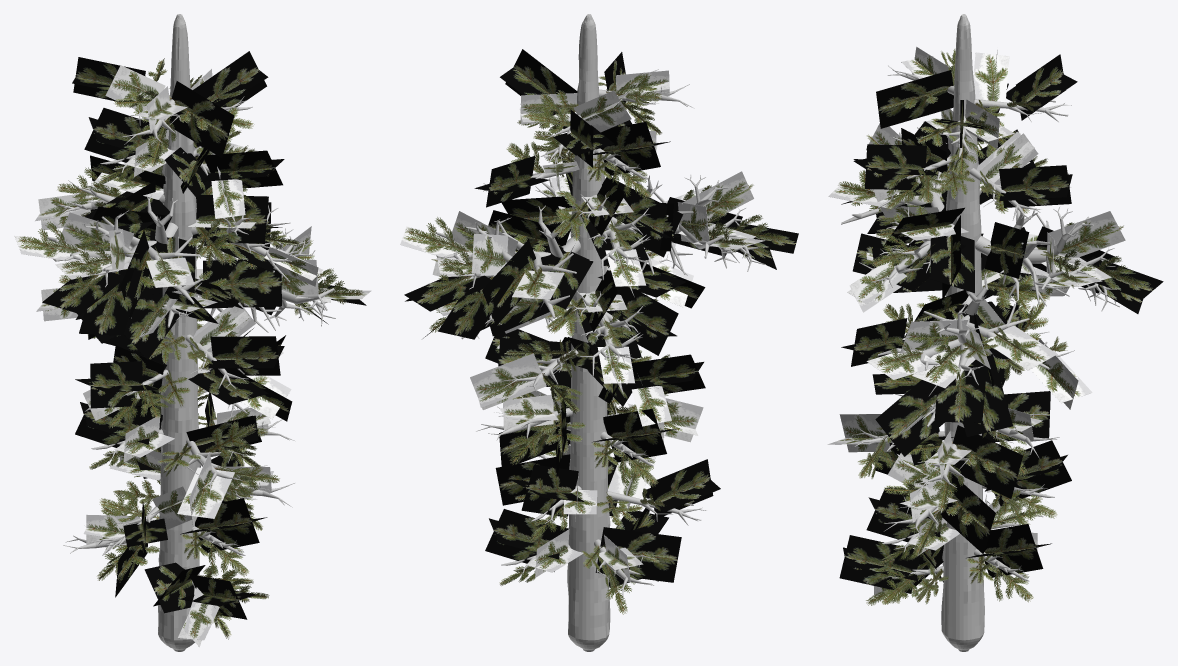
Rendered from pinetree_level1.fbx.
3 renders of one model, left to right at view 1: azimuth 30°, elevation 25°; view 2: azimuth 150°, elevation 25°; view 3: azimuth 270°, elevation 25°, orthographic.
Visible parts, largest first — view 1: Pinetree_level1; view 2: Pinetree_level1; view 3: Pinetree_level1.
Boxes of the visible parts, <box> form: Pinetree_level1: <box>14,14,371,651</box>; Pinetree_level1: <box>400,14,798,651</box>; Pinetree_level1: <box>827,14,1163,651</box>.
Bounding box in the file's own units: 452 × 792 × 380.
